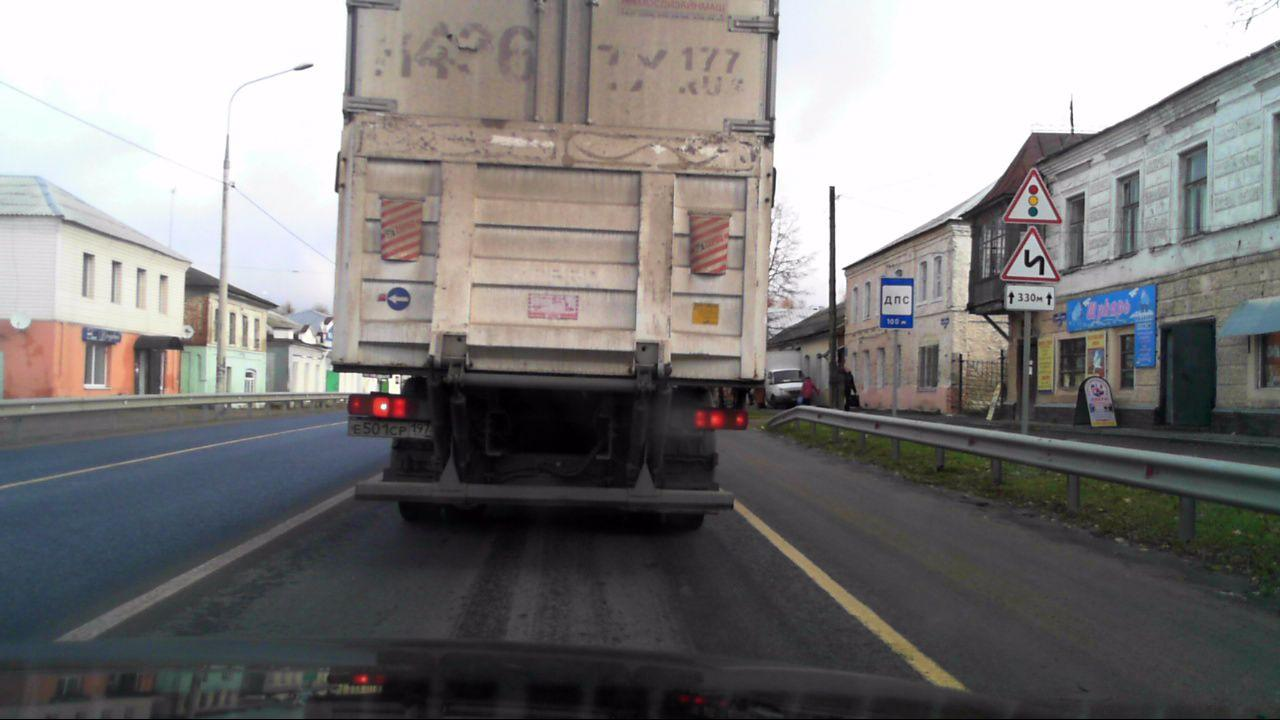1_12_2: (999, 227, 1059, 283)
1_8: (998, 167, 1064, 225)
7_12: (880, 275, 914, 330)
8_2_1: (1004, 287, 1056, 312)
